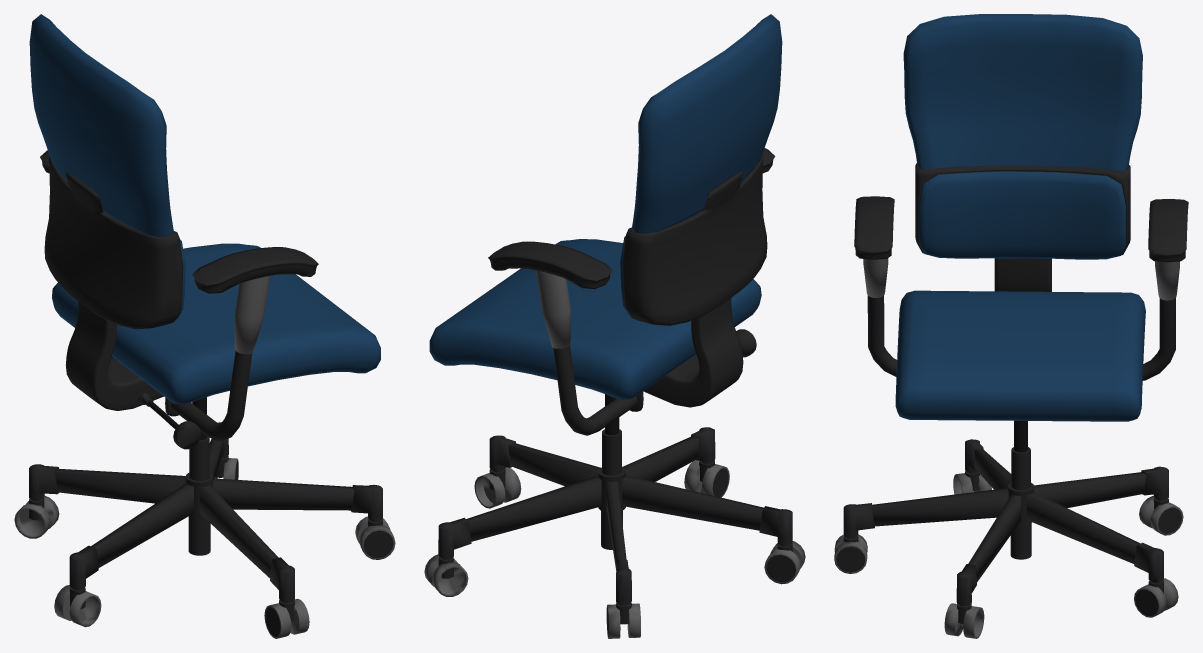
File: chair.dae
3 renders of one model, left to right at view 1: azimuth 30°, elevation 25°; view 2: azimuth 150°, elevation 25°; view 3: azimuth 270°, elevation 25°, orthographic. The views are drawn at different scales.
Parts seen in each view (by area): view 1: SweetHome3DExample4; view 2: SweetHome3DExample4; view 3: SweetHome3DExample4.
Boxes of the visible parts, left/top/right/bottom form: SweetHome3DExample4: left=14, top=14, right=395, bottom=638; SweetHome3DExample4: left=424, top=14, right=805, bottom=638; SweetHome3DExample4: left=834, top=14, right=1188, bottom=638.
Size of the model in its own units: 28.67 by 28.69 by 45.01.
